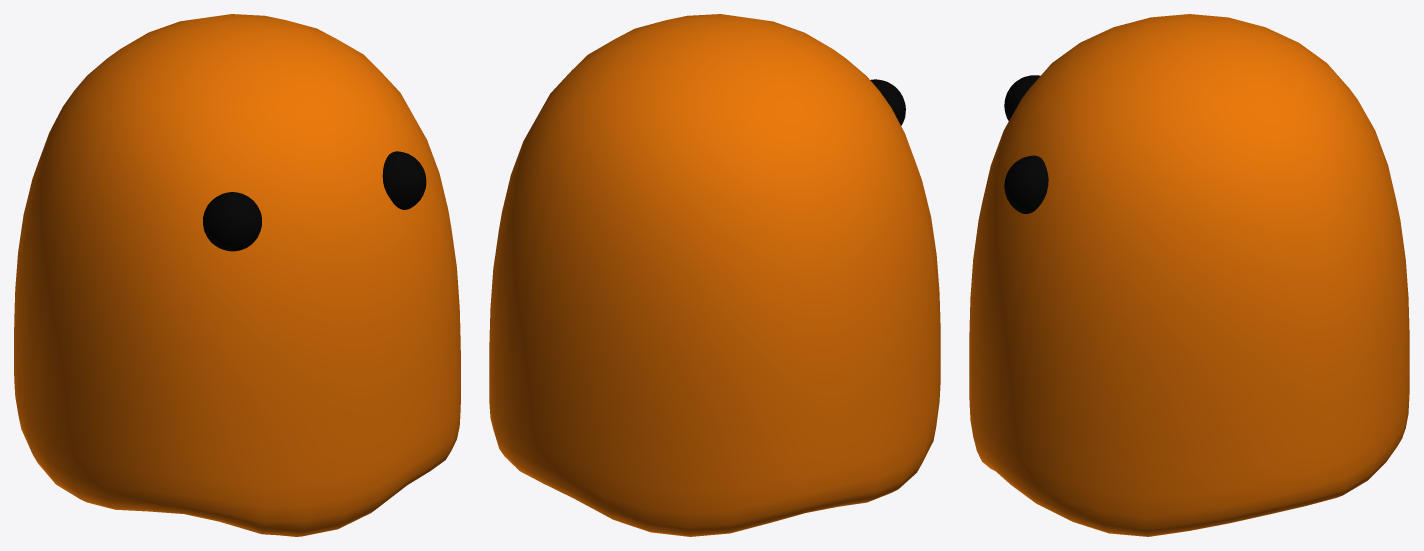
File: Ghost4.glb
The picture shows the model from 3 angles, left to right: view 1: azimuth 30°, elevation 25°; view 2: azimuth 150°, elevation 25°; view 3: azimuth 270°, elevation 25°; orthographic projection.
Parts seen in each view (by area): view 1: Blue.002, Sphere.003; view 2: Blue.002, Sphere.003; view 3: Blue.002, Sphere.003.
Boxes of the visible parts, x1,y1,x2,y2 form: Blue.002: [14, 14, 460, 536]; Sphere.003: [203, 151, 426, 251]; Blue.002: [489, 14, 940, 536]; Sphere.003: [870, 79, 905, 125]; Blue.002: [969, 14, 1409, 536]; Sphere.003: [1004, 75, 1048, 213].
Size of the model in its own units: 1.83 by 1.99 by 1.83.
